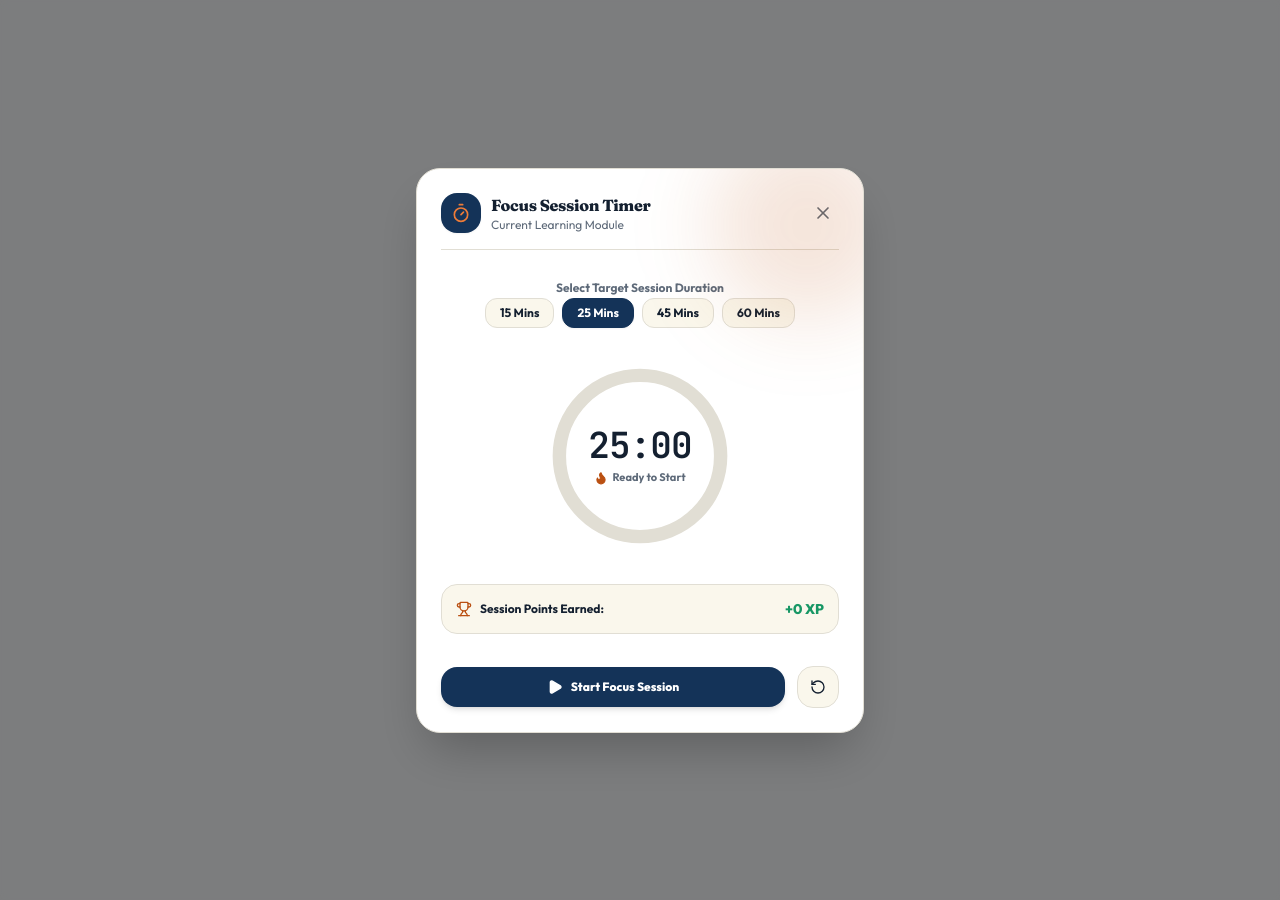
FocusSessionTimer › switches the target duration when a preset is selected while stopped
Click the button "45 Mins" at point(678, 312), box [642, 298, 714, 328]
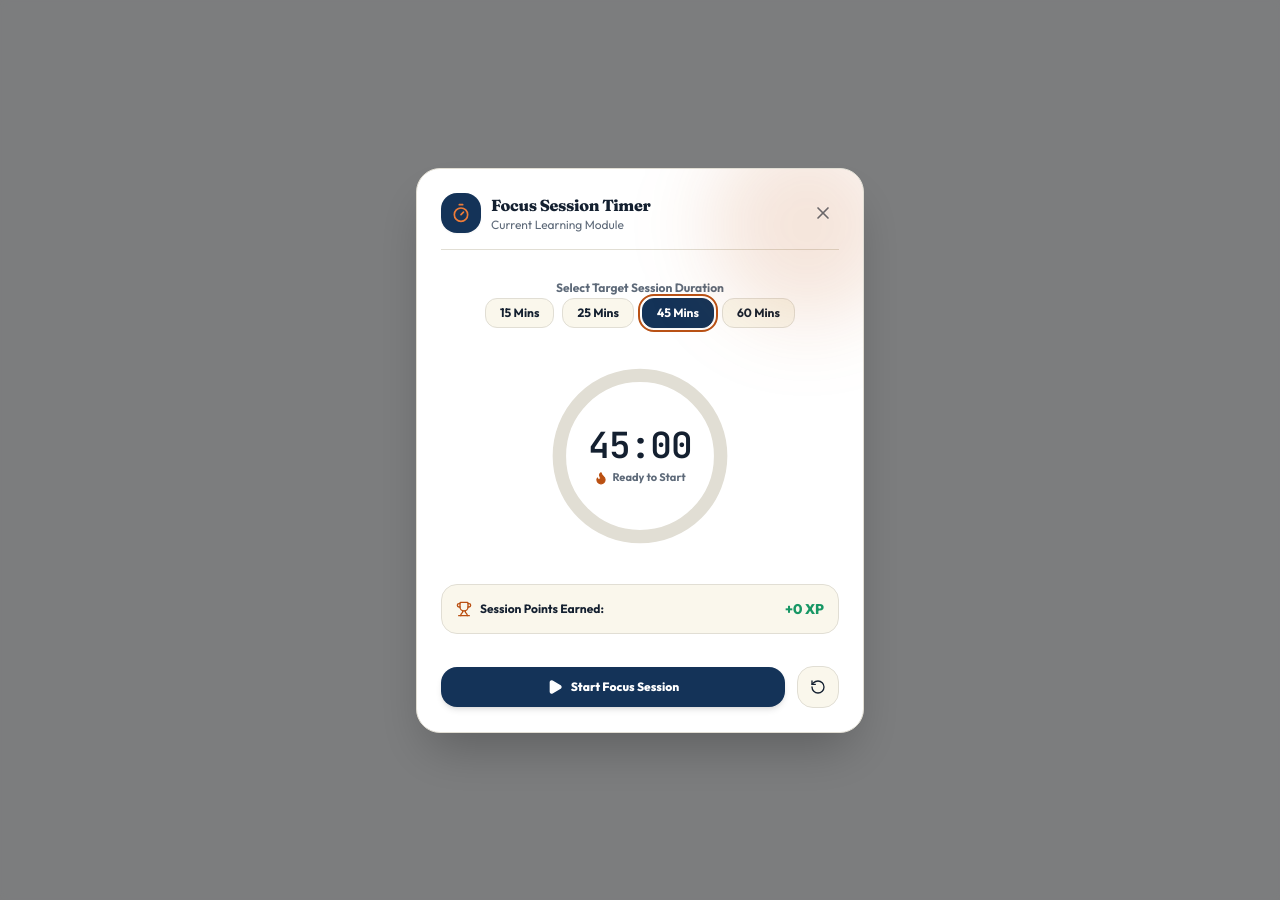
Expected: the text "45:00" is shown, [588, 425, 692, 465]
